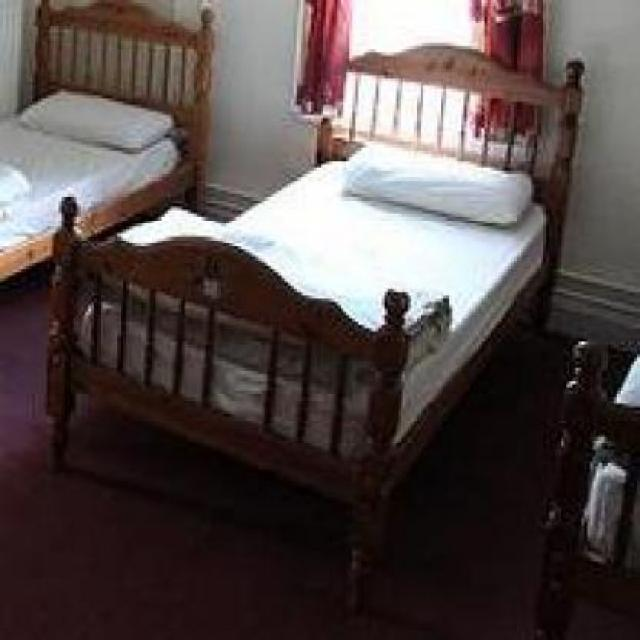Bed: (31, 0, 592, 600), (0, 0, 217, 346)
